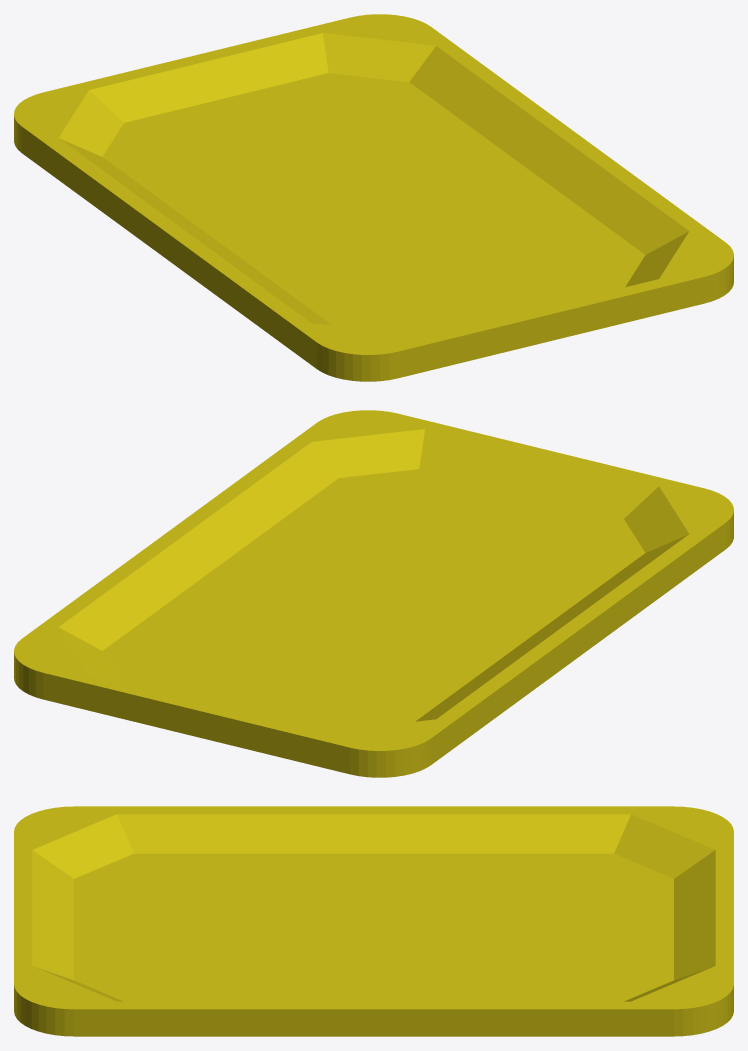
File: playerDataFrame.fbx
The picture shows the model from 3 angles, top to bottom: view 1: azimuth 30°, elevation 25°; view 2: azimuth 150°, elevation 25°; view 3: azimuth 270°, elevation 25°; orthographic projection.
Visible parts, largest first — view 1: playerDataFrame; view 2: playerDataFrame; view 3: playerDataFrame.
Part boxes in pixels (left/top/right/bottom): playerDataFrame: left=14, top=14, right=733, bottom=381; playerDataFrame: left=14, top=410, right=733, bottom=777; playerDataFrame: left=14, top=806, right=733, bottom=1036.
Size of the model in its own units: 8000 by 500 by 12000.
